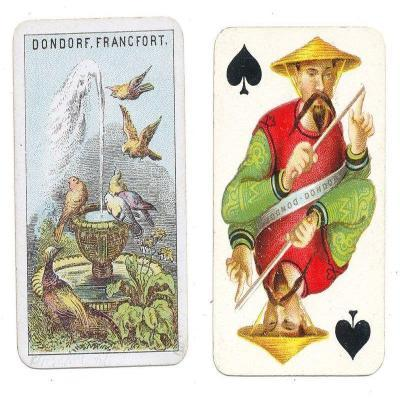graphics: (206, 21, 389, 378), (12, 16, 190, 371)
